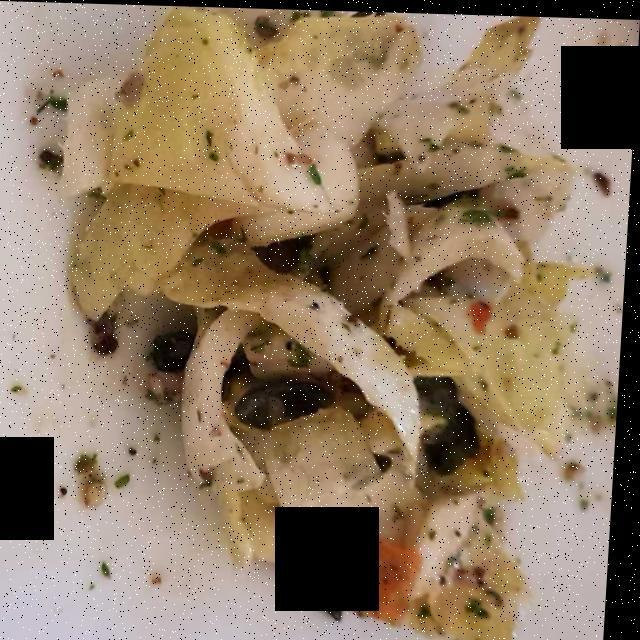salad: (64, 19, 580, 634)
